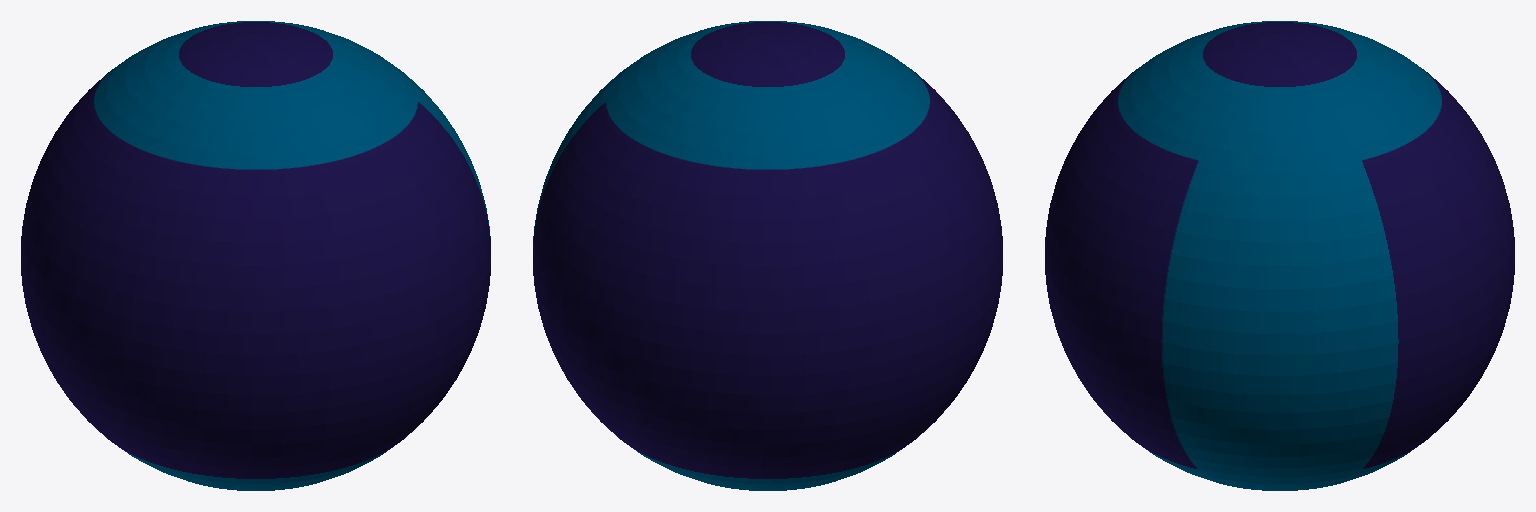
The picture shows the model from 3 angles: view 1: azimuth 30°, elevation 25°; view 2: azimuth 150°, elevation 25°; view 3: azimuth 270°, elevation 25°; orthographic projection.
Visible parts, largest first — view 1: Sphere_Sphere.001; view 2: Sphere_Sphere.001; view 3: Sphere_Sphere.001.
Boxes of the visible parts, x1,y1,x2,y2 form: Sphere_Sphere.001: [21, 21, 490, 490]; Sphere_Sphere.001: [533, 21, 1002, 490]; Sphere_Sphere.001: [1045, 21, 1514, 490].
Size of the model in its own units: 2 by 2 by 2.
1 materials, 1 textured.